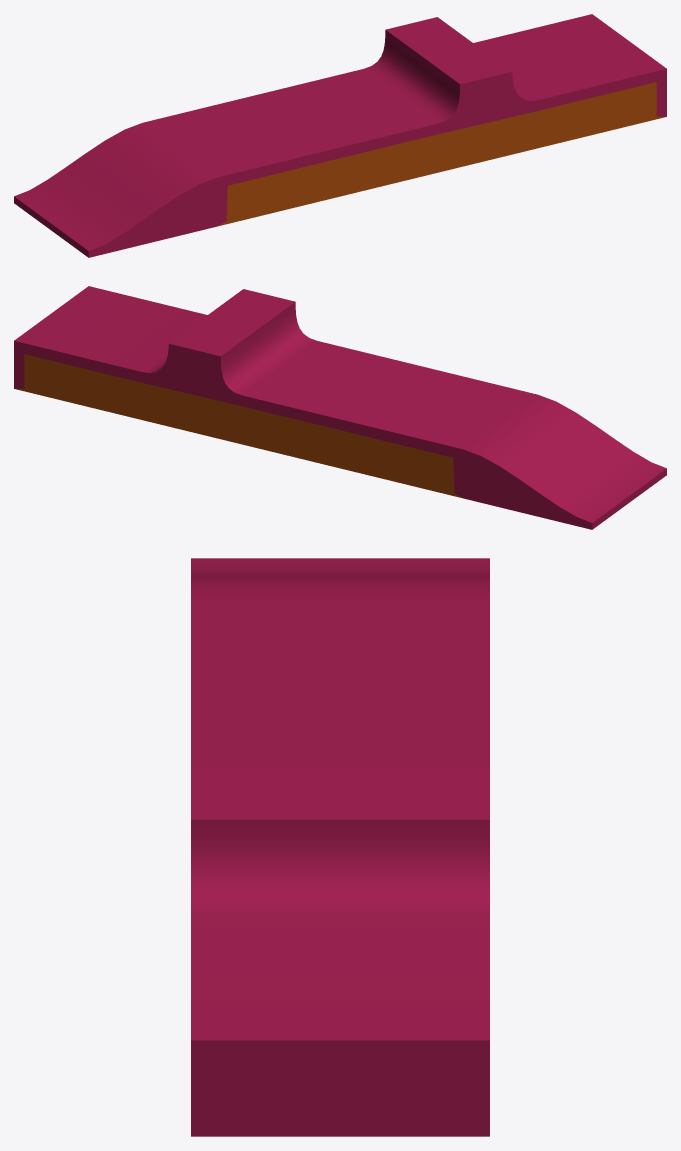
Rendered from GardenPlatform6.fbx.
The picture shows the model from 3 angles, top to bottom: view 1: azimuth 30°, elevation 25°; view 2: azimuth 150°, elevation 25°; view 3: azimuth 270°, elevation 25°; orthographic projection. The views are drawn at different scales.
Visible parts, largest first — view 1: GardenPlatform6; view 2: GardenPlatform6; view 3: GardenPlatform6.
Boxes of the visible parts, bbox=[...] form: GardenPlatform6: bbox=[14, 14, 666, 257]; GardenPlatform6: bbox=[14, 286, 666, 529]; GardenPlatform6: bbox=[191, 558, 489, 1136].
Size of the model in its own units: 3029 by 415 by 678.
